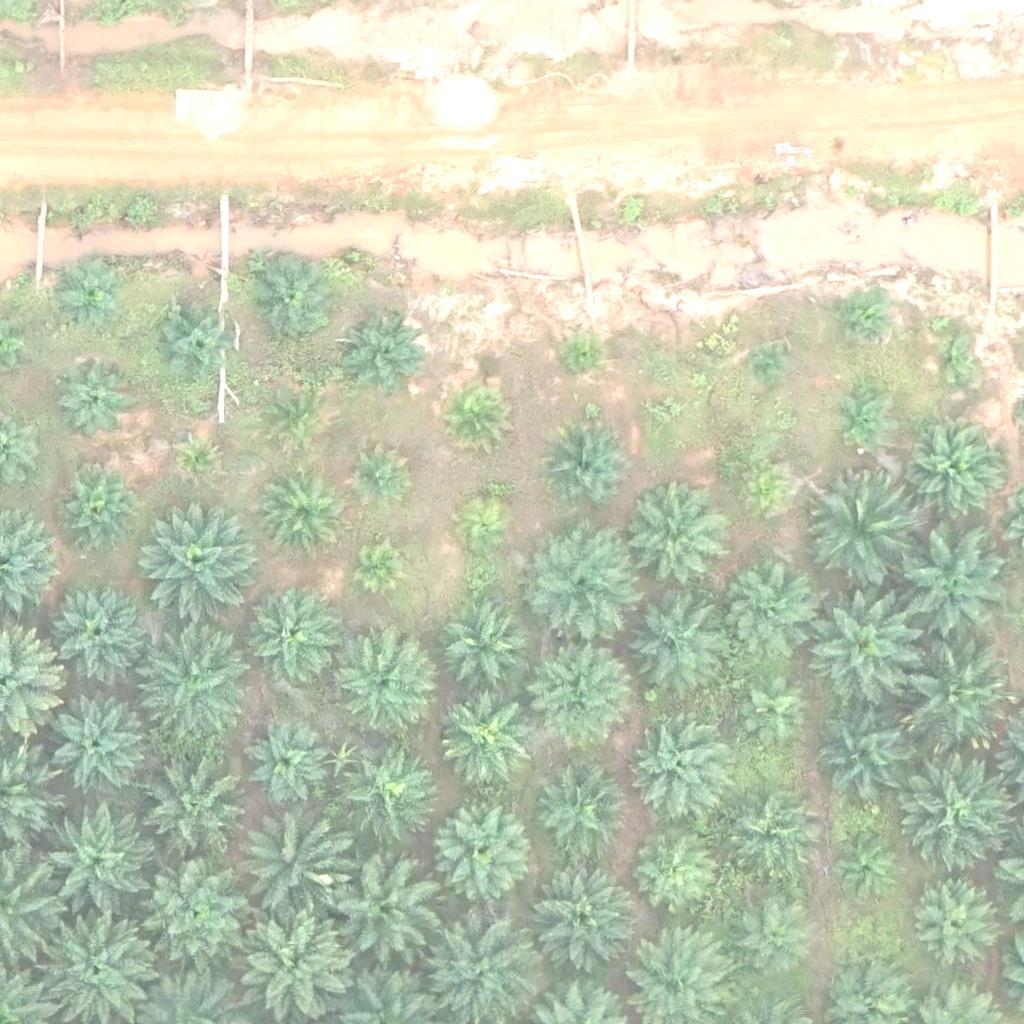Kelapa_Sawit: (142, 501, 255, 615), (33, 806, 146, 920), (892, 529, 1005, 642), (905, 762, 1018, 875), (801, 469, 914, 582), (806, 601, 919, 714), (324, 855, 437, 968), (522, 524, 634, 638), (903, 646, 1015, 759), (429, 904, 541, 1017), (134, 856, 246, 969), (142, 635, 254, 748), (812, 708, 912, 809), (629, 492, 729, 593), (530, 866, 630, 967), (527, 649, 627, 750), (433, 798, 533, 899), (242, 818, 342, 919), (242, 914, 342, 1015), (50, 582, 150, 683), (908, 421, 1008, 521), (721, 787, 821, 887), (723, 562, 823, 662), (630, 599, 730, 699), (623, 719, 723, 819), (434, 687, 534, 787), (335, 744, 435, 844), (331, 636, 431, 736), (242, 584, 342, 684), (139, 752, 239, 852), (46, 697, 146, 797), (542, 421, 630, 509), (912, 880, 1000, 968), (535, 768, 623, 856), (440, 602, 528, 690), (148, 298, 236, 386), (243, 721, 331, 809), (54, 465, 142, 553), (632, 830, 719, 918), (730, 890, 817, 978), (249, 254, 336, 342), (258, 469, 345, 557), (345, 322, 420, 398), (54, 364, 129, 440), (735, 669, 810, 744), (56, 261, 119, 324), (835, 835, 898, 898), (445, 382, 508, 445), (268, 388, 330, 451), (455, 501, 505, 552), (930, 337, 980, 387), (838, 291, 888, 341), (833, 394, 883, 444), (357, 544, 407, 594), (352, 452, 402, 502), (747, 352, 785, 390), (561, 336, 598, 374), (737, 471, 774, 508), (176, 437, 213, 474), (650, 399, 675, 425)
